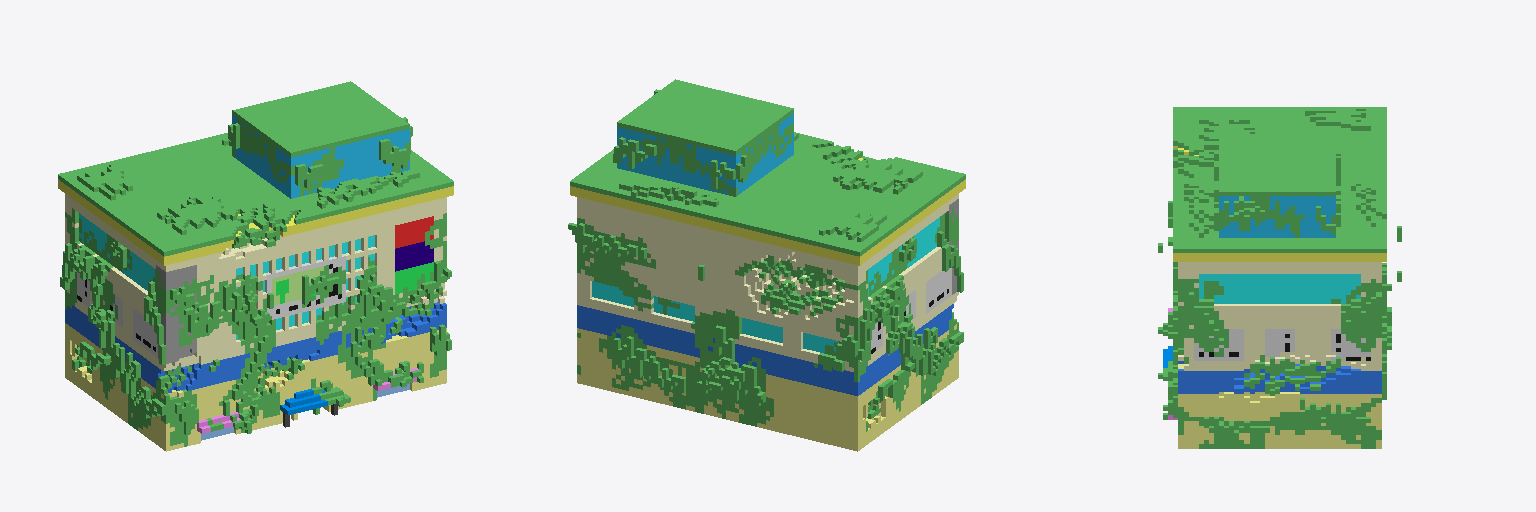
3 views of the same model, side by side, from view 1: azimuth 30°, elevation 25°; view 2: azimuth 150°, elevation 25°; view 3: azimuth 270°, elevation 25° (orthographic).
Visible parts, largest first — view 1: object 1; view 2: object 1; view 3: object 1.
Part boxes in pixels (x1,y1,x2,y2): object 1: (58,81,453,451); object 1: (568,79,965,451); object 1: (1158,107,1401,448).
Size of the model in its own units: 6.8 by 5.4 by 4.8.
Materials: 1 (1 with a texture image).